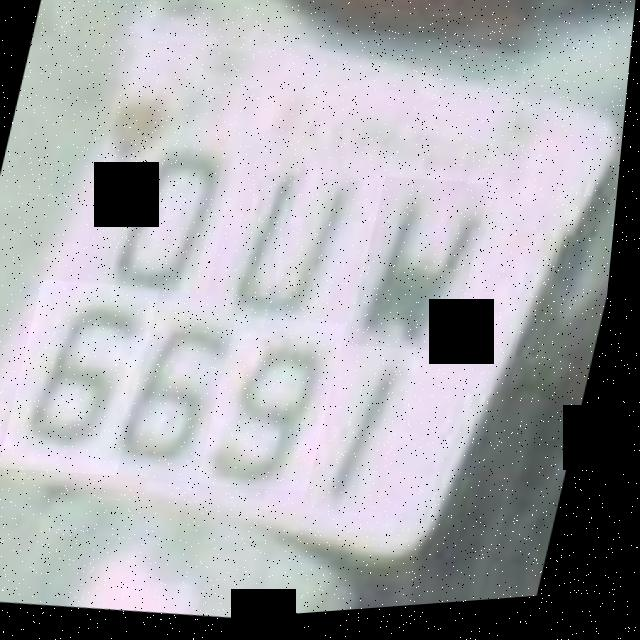1: (318, 342, 429, 522)
6: (7, 274, 167, 485), (97, 293, 260, 494)
9: (206, 315, 354, 504)
O: (98, 119, 249, 321)
U: (209, 135, 383, 346)
W: (353, 177, 496, 366)
